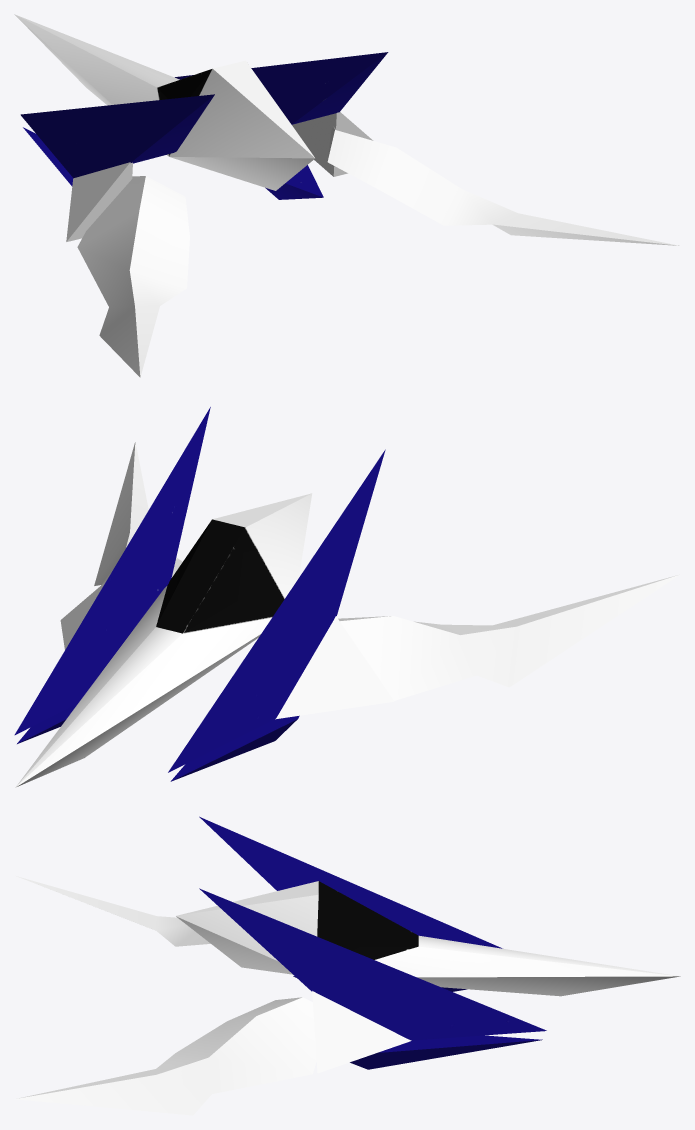
Rendered from Arwing_001.dae.
3 views of the same model, one above another, from view 1: azimuth 30°, elevation 25°; view 2: azimuth 150°, elevation 25°; view 3: azimuth 270°, elevation 25° (orthographic). The views are drawn at different scales.
Parts seen in each view (by area): view 1: Default; view 2: Default; view 3: Default.
Boxes of the visible parts, x1,y1,x2,y2 form: Default: [14, 14, 679, 377]; Default: [14, 407, 680, 787]; Default: [14, 816, 680, 1115].
Size of the model in its own units: 10.42 by 4.03 by 13.13.
